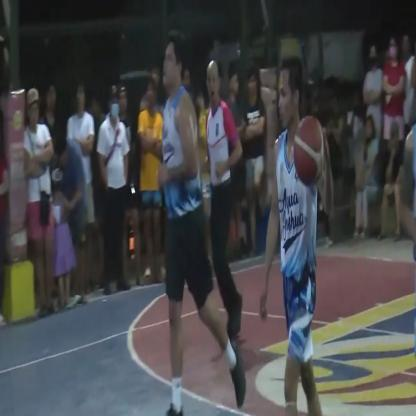basketball: (293, 111, 325, 190)
